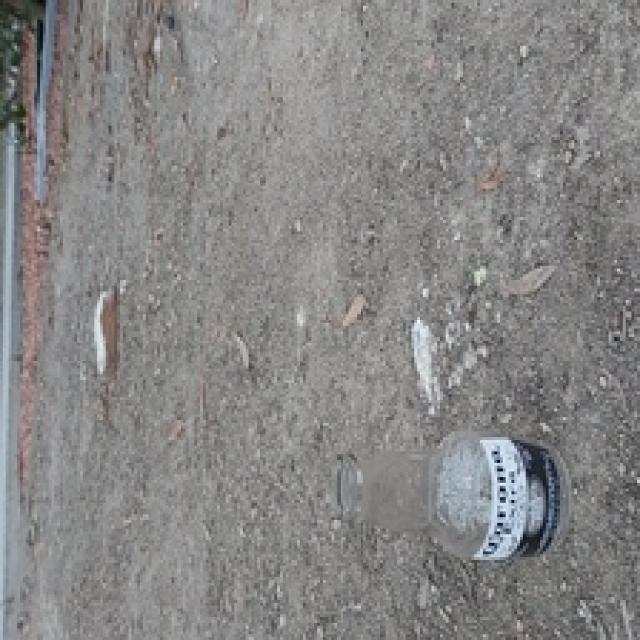Glass: (336, 430, 570, 565)
